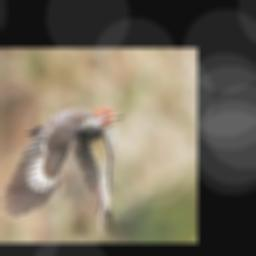Woodpecker: (1, 107, 123, 234)
